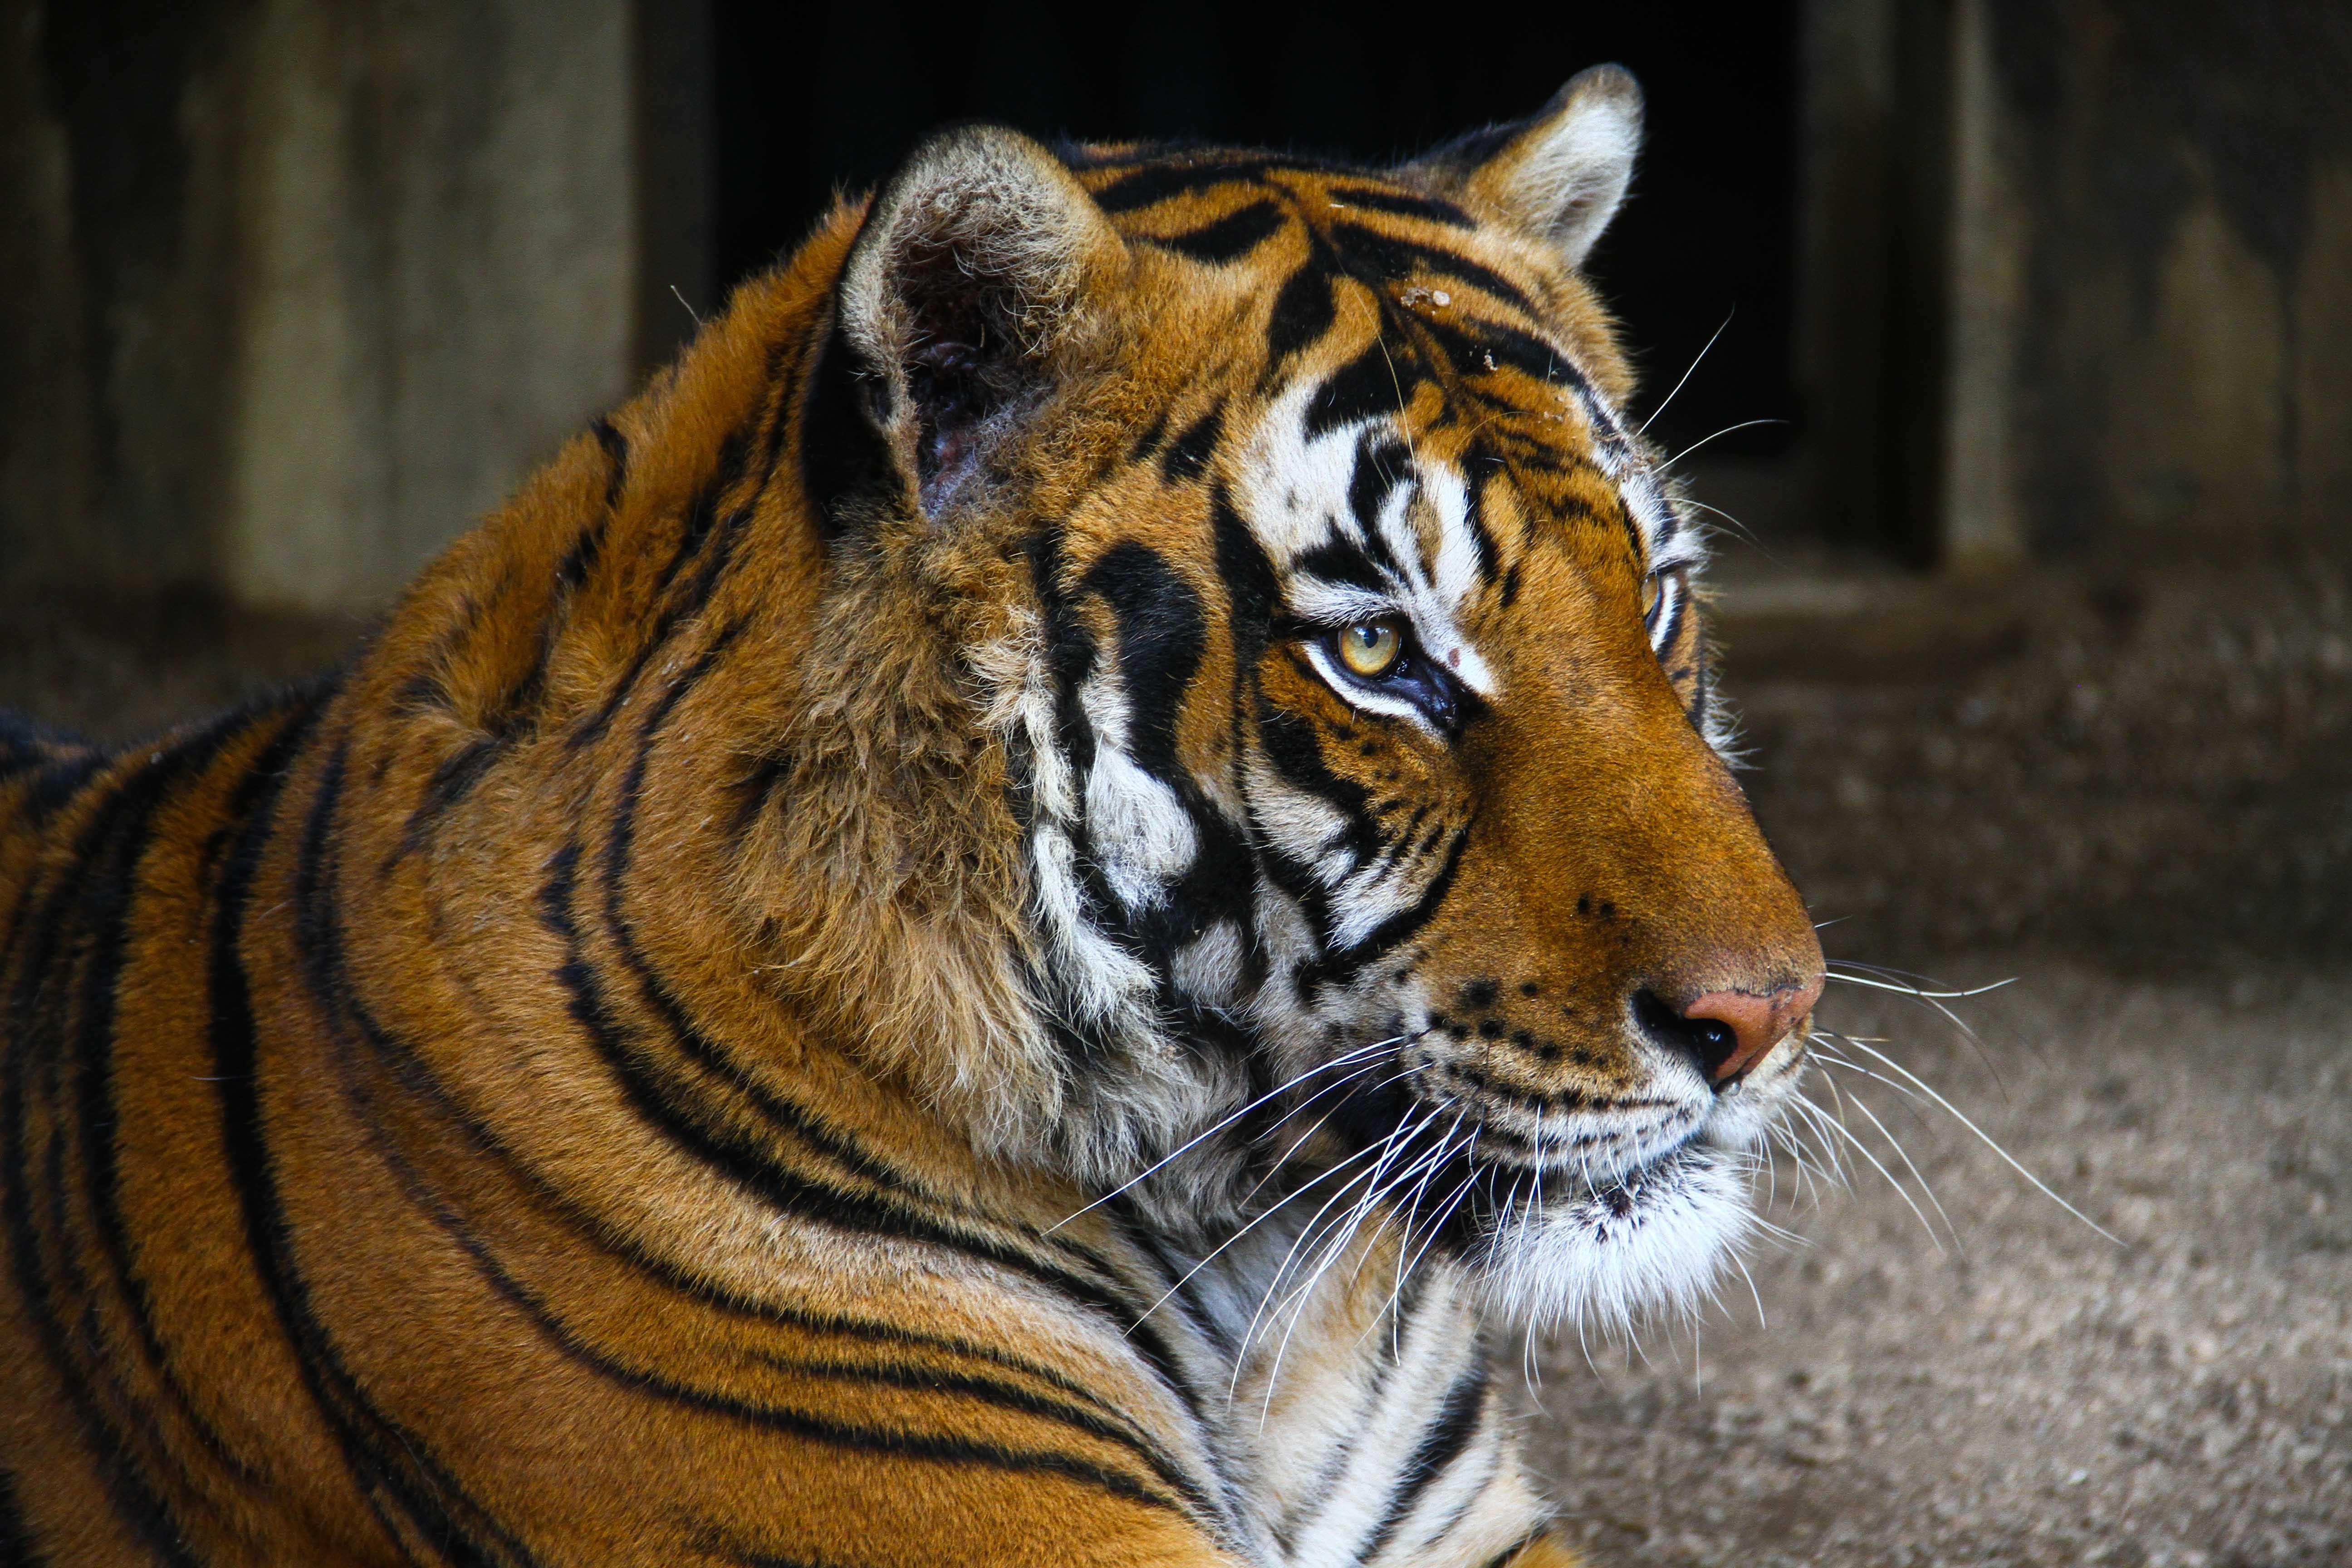tiger: (186, 129, 1804, 1543)
